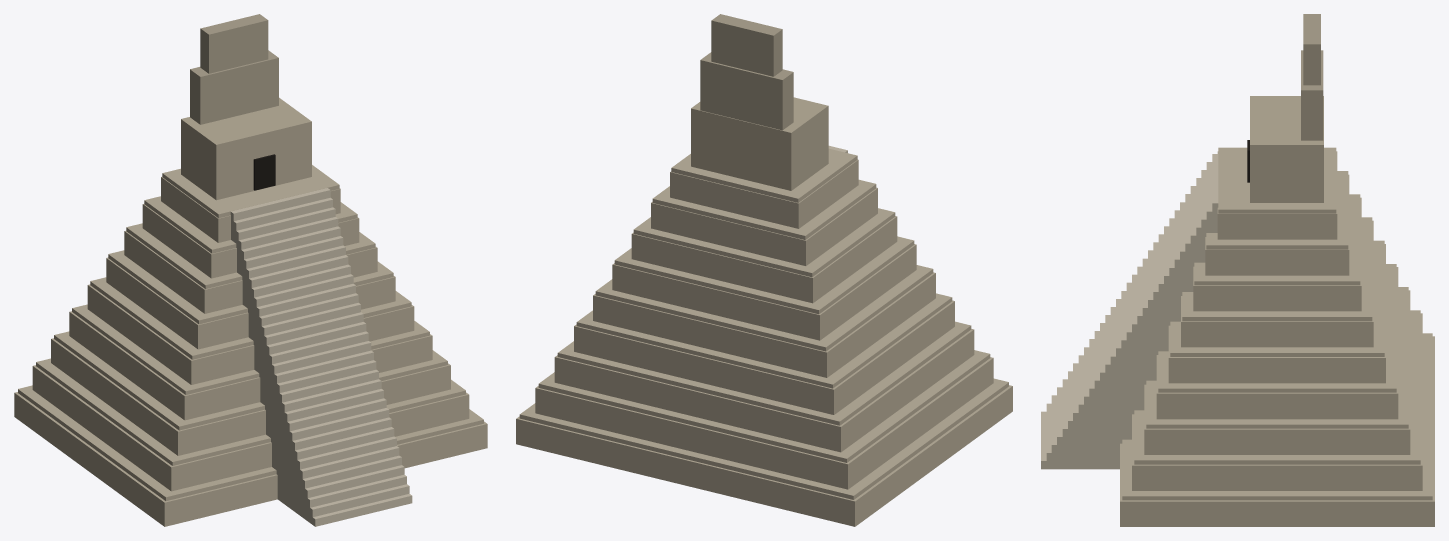
Rendered from meso-tikal-t1-ruin.glb.
3 renders of one model, left to right at view 1: azimuth 30°, elevation 25°; view 2: azimuth 150°, elevation 25°; view 3: azimuth 270°, elevation 25°, orthographic. The views are drawn at different scales.
Visible parts, largest first — view 1: meso-body, meso-stair, meso-shrine, meso-comb, meso-door; view 2: meso-body, meso-shrine, meso-comb; view 3: meso-body, meso-stair, meso-shrine, meso-comb.
Boxes of the visible parts, x1,y1,x2,y2 form: meso-body: [14, 165, 487, 526]; meso-stair: [230, 188, 412, 526]; meso-shrine: [181, 97, 311, 200]; meso-comb: [190, 14, 278, 124]; meso-door: [253, 154, 275, 190]; meso-body: [516, 148, 1012, 526]; meso-shrine: [691, 97, 828, 190]; meso-comb: [700, 14, 793, 130]; meso-body: [1120, 147, 1434, 526]; meso-stair: [1041, 154, 1218, 469]; meso-shrine: [1250, 96, 1323, 202]; meso-comb: [1301, 14, 1323, 140].
Size of the model in its own units: 40.1 by 47 by 40.41.
